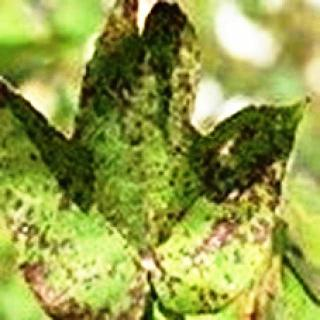leaf spot: (9, 7, 291, 309)
